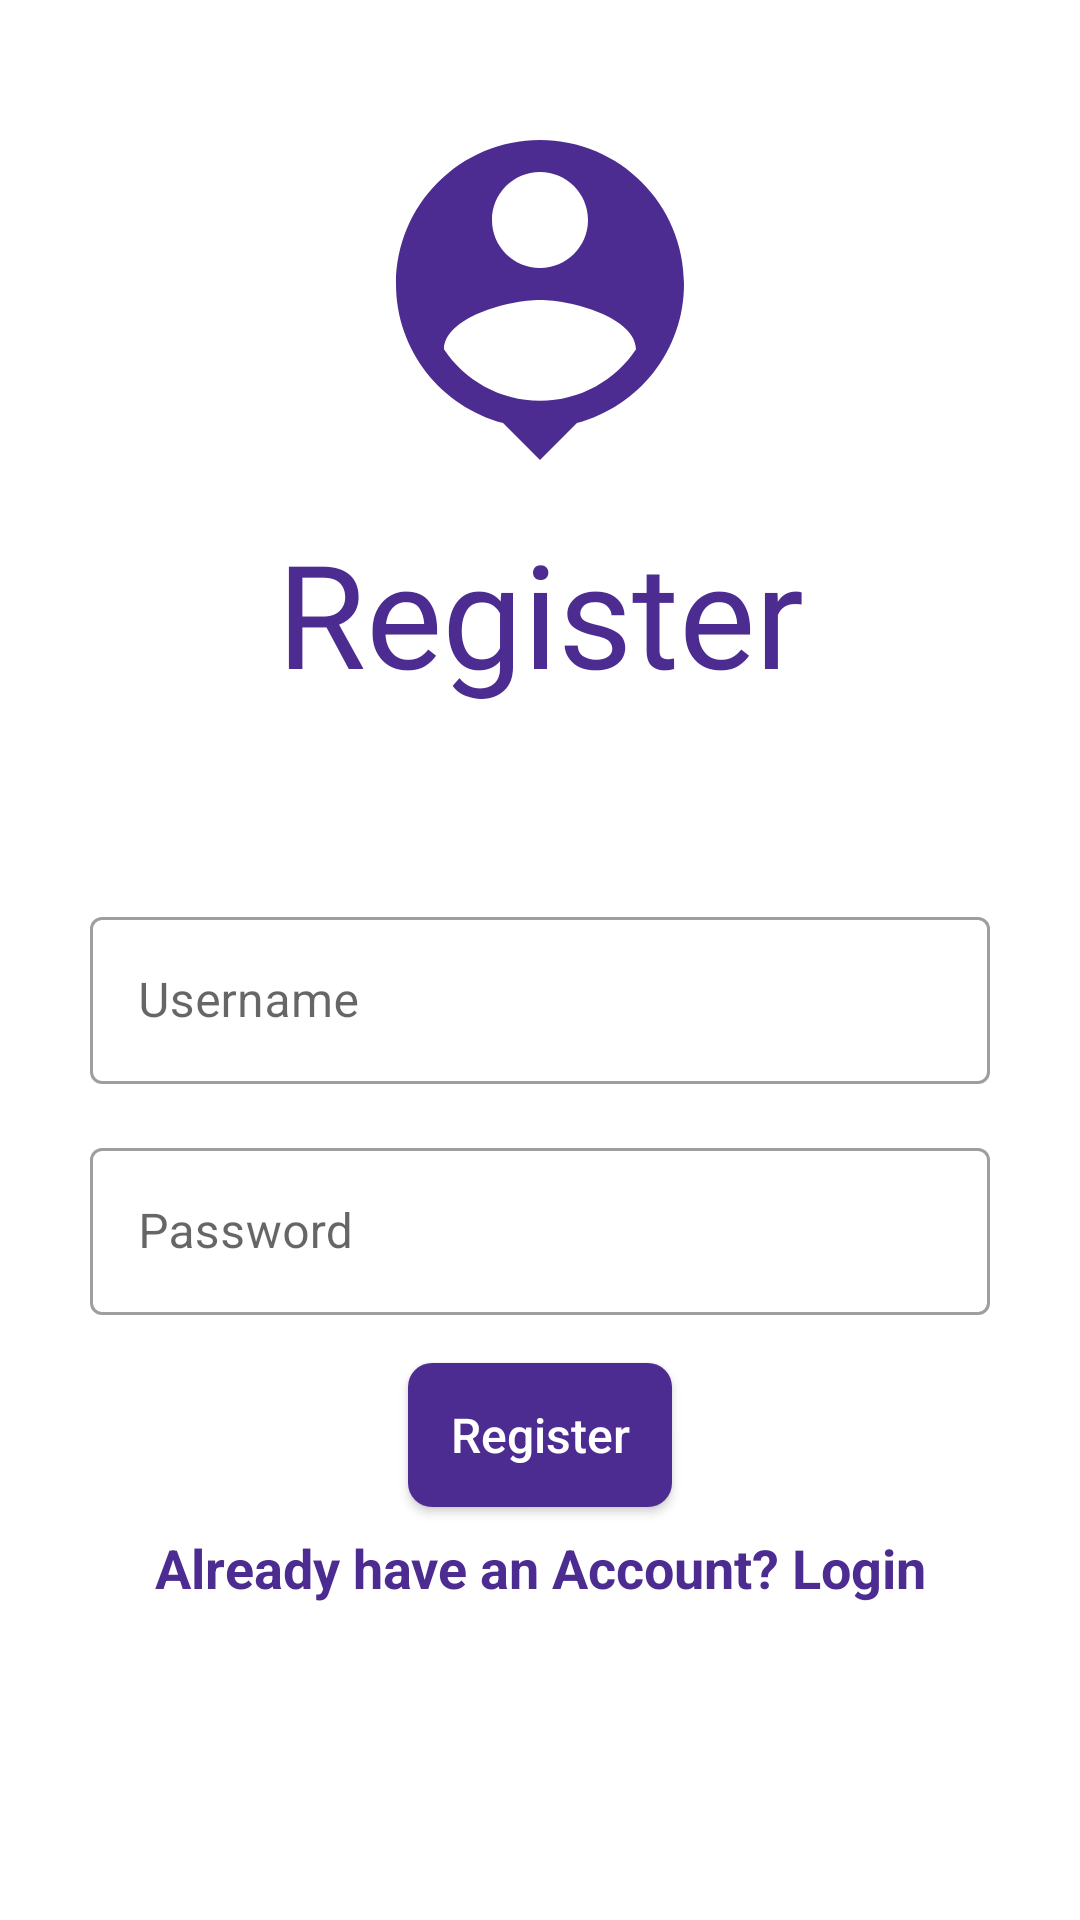

Point at icon controls on the screen. Image size 1080 x 1920, points as point (x, y).
person pin: point (540, 300)
